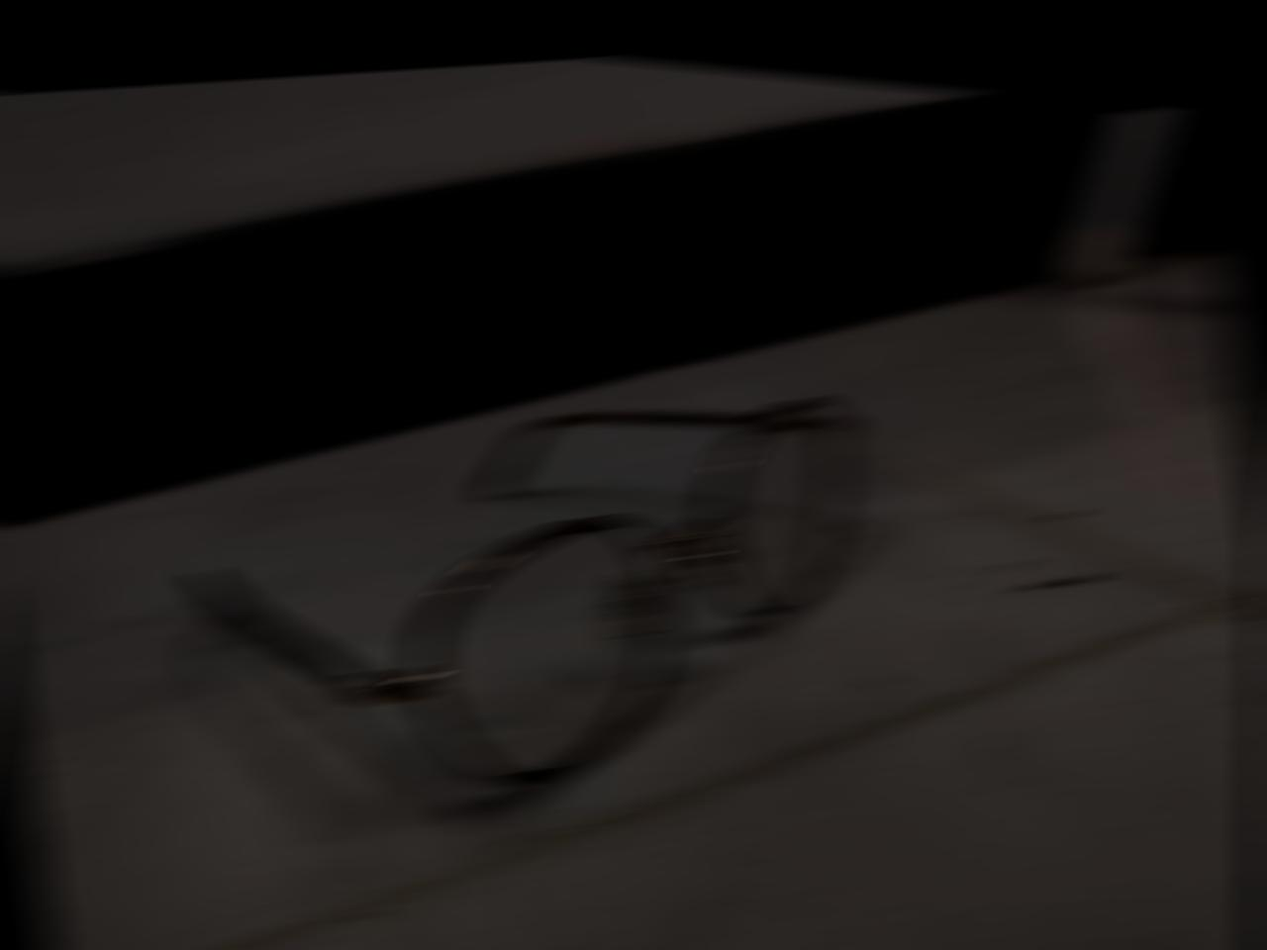glasses: (137, 301, 926, 893)
